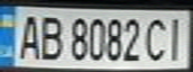0: (87, 14, 106, 62)
2: (121, 15, 145, 63)
8: (66, 14, 90, 62), (106, 15, 127, 63)
A: (12, 11, 42, 61)
B: (36, 11, 66, 61)
C: (142, 15, 172, 63)
I: (163, 14, 190, 63)
